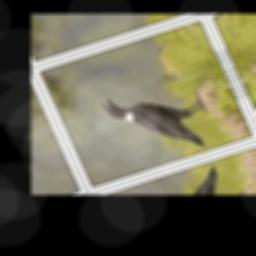Crow: (98, 71, 223, 172)
